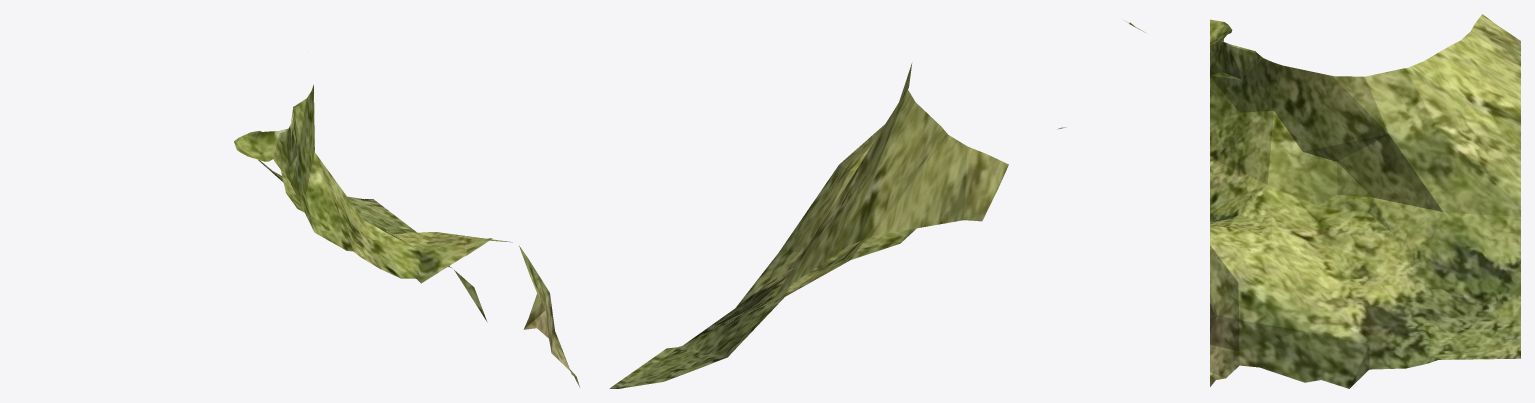
3 renders of one model, left to right at view 1: azimuth 30°, elevation 25°; view 2: azimuth 150°, elevation 25°; view 3: azimuth 270°, elevation 25°, orthographic. The views are drawn at different scales.
Size of the model in its own units: 2.95 by 2.55 by 2.95.
Materials: 3 (3 with a texture image).
